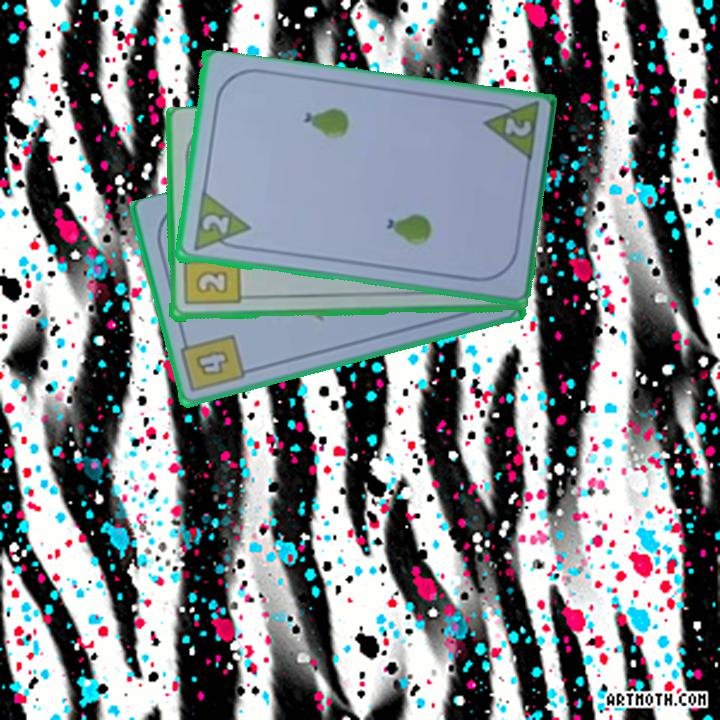2b: (180, 247, 242, 309)
2p: (478, 98, 542, 166), (198, 211, 233, 238)
4b: (177, 331, 248, 396)
